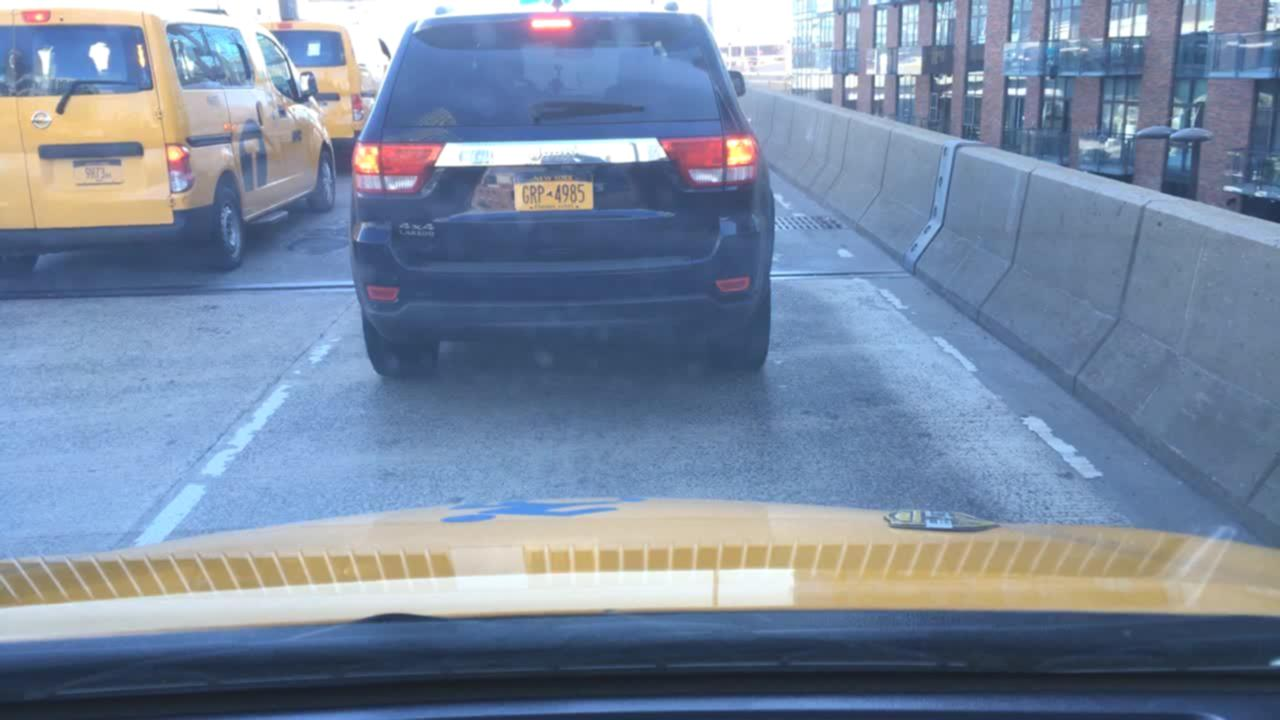Nissan: (28, 106, 57, 132)
jeep: (518, 137, 586, 171)
